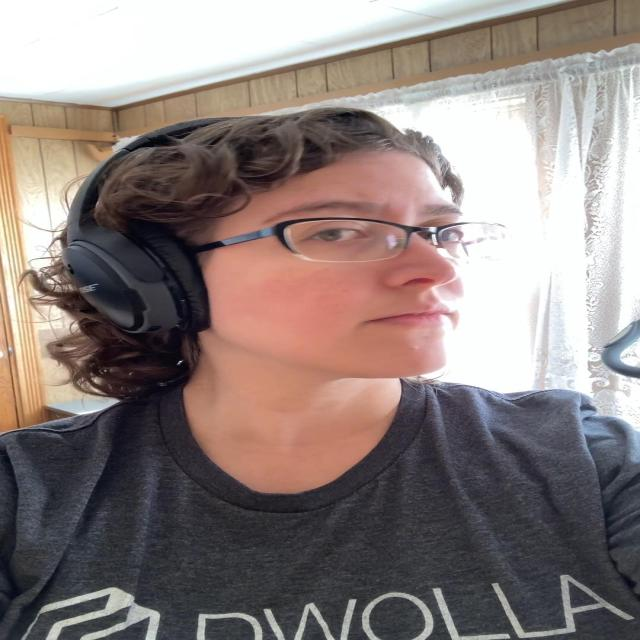no-helmet: (178, 150, 470, 377)
